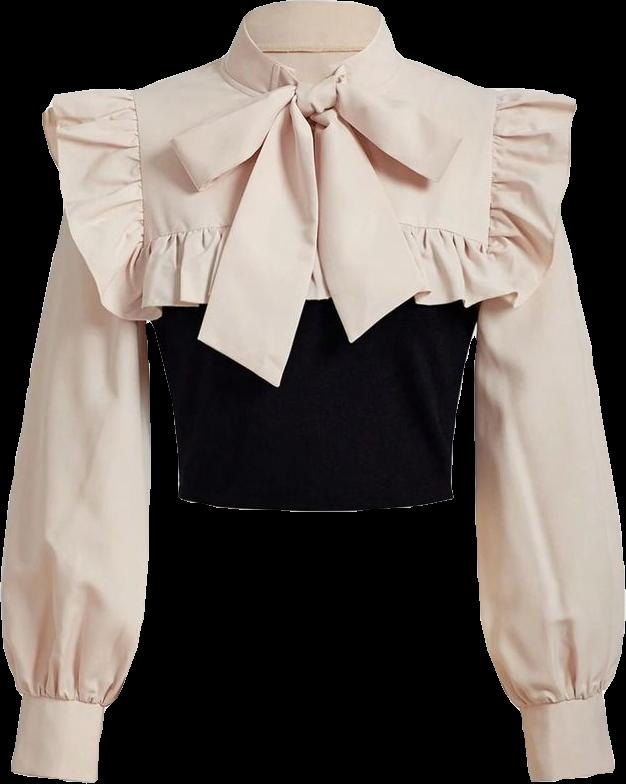Bodice: (40, 0, 576, 511)
Neckline: (133, 86, 500, 248), (239, 14, 389, 76)
Sleeve: (474, 88, 624, 782), (1, 86, 150, 781)
Sleeveline: (130, 84, 150, 242), (484, 86, 505, 235), (518, 688, 606, 713), (18, 688, 110, 711)
Waistline: (125, 98, 583, 324), (39, 110, 142, 327), (175, 489, 458, 516)
